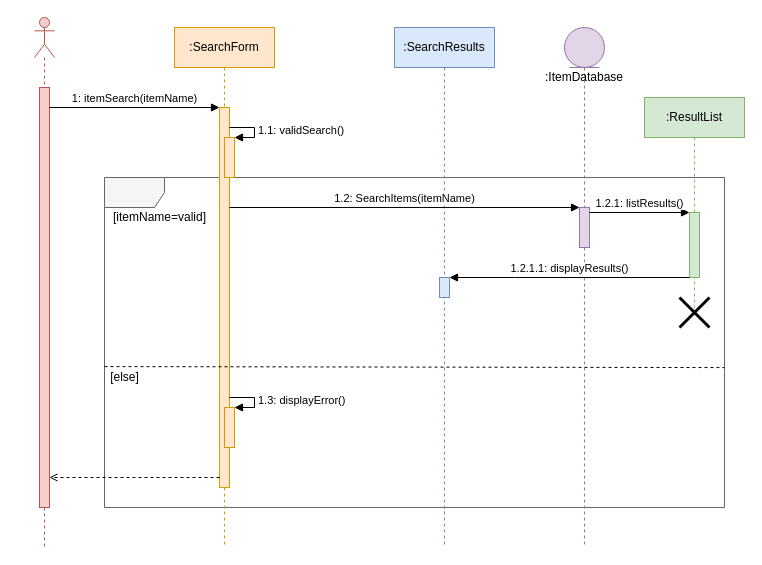
The diagram is 762 pixels wide and 565 high, and some of its shapes have lost their labels. Each missing label, with the box of its shape:
:Customer: (34, 16, 54, 548)
alt: (104, 176, 724, 508)
